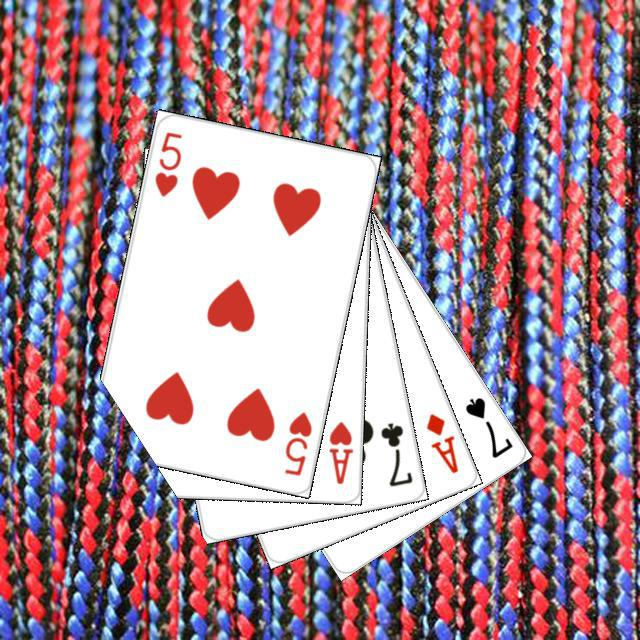5h: (280, 406, 314, 478), (150, 126, 184, 198)
7c: (375, 417, 415, 489)
7s: (460, 392, 515, 460)
Ad: (421, 408, 460, 476)
Ah: (324, 416, 354, 486)
